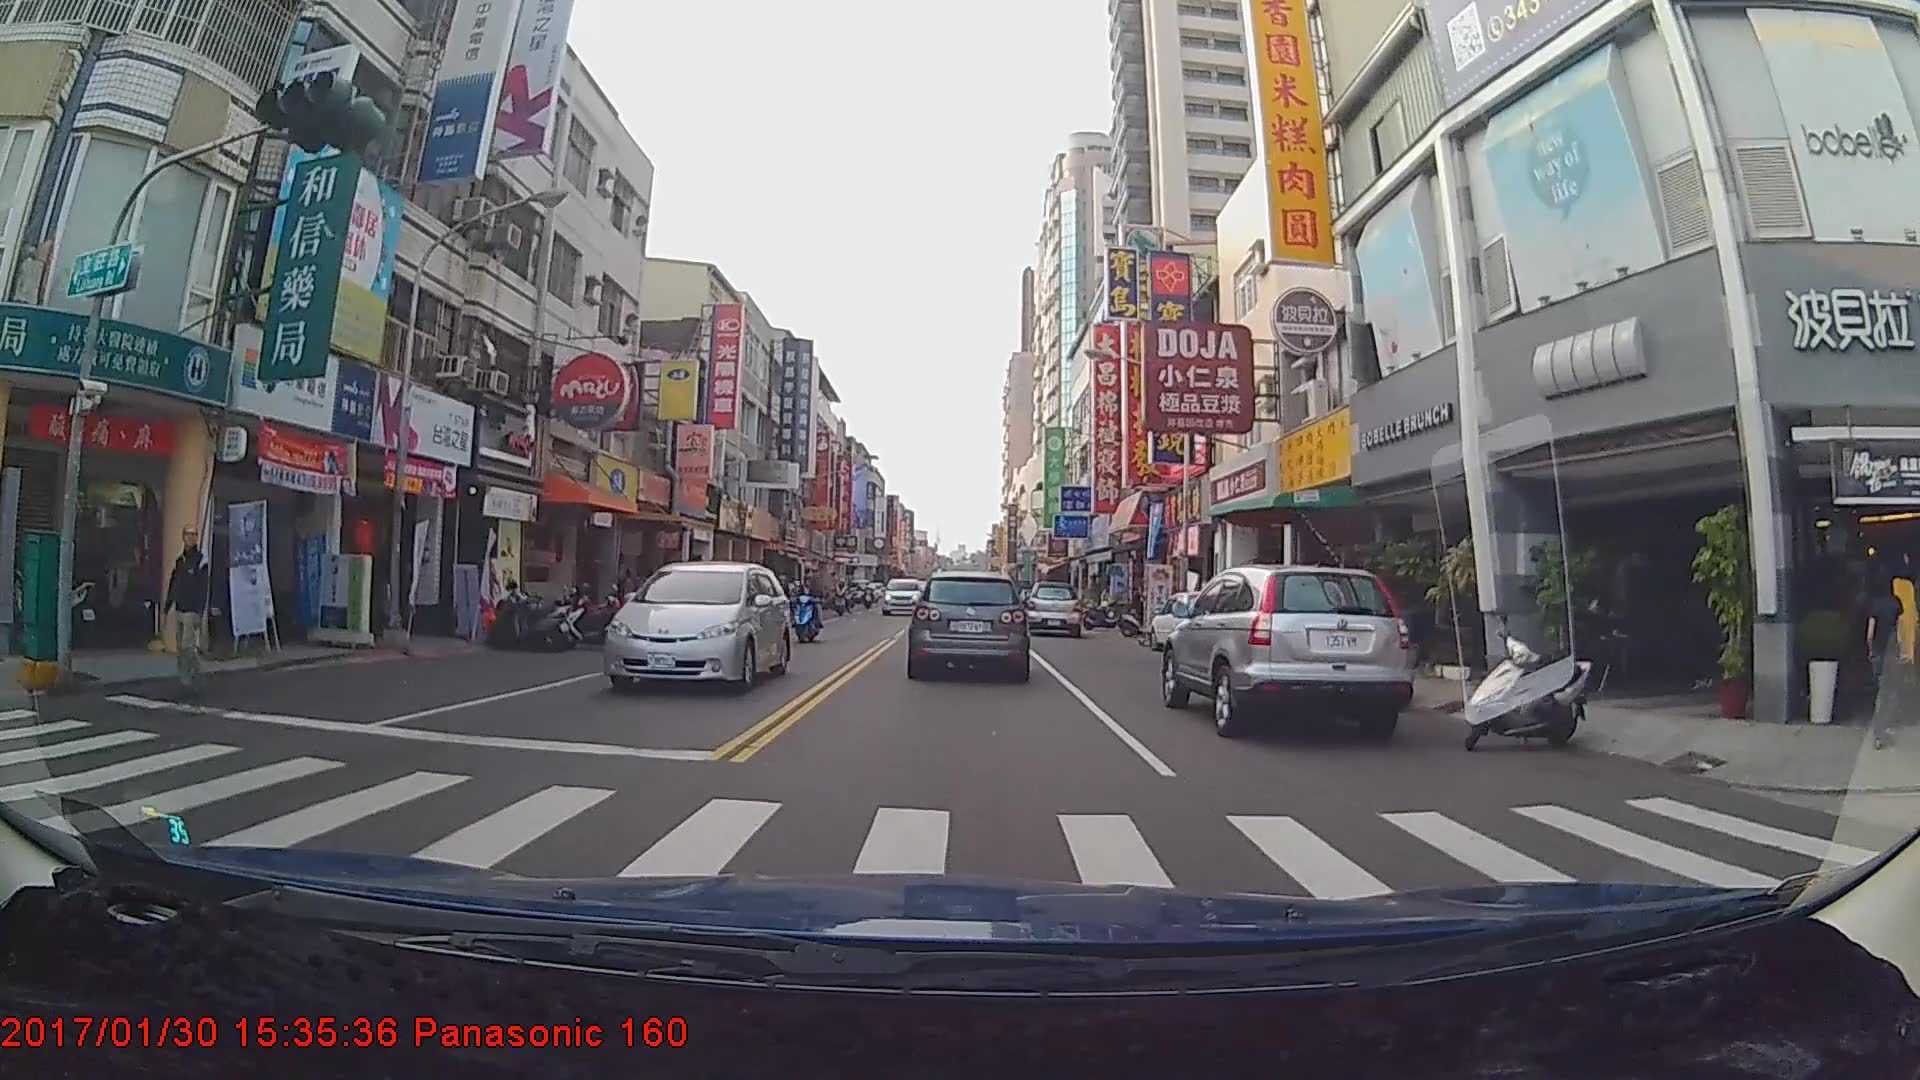pedestrian: (165, 529, 220, 706), (1862, 567, 1909, 758), (1881, 555, 1920, 723)
rider: (792, 572, 827, 643)
vehicle: (1159, 561, 1409, 736), (601, 558, 790, 694), (909, 568, 1027, 677), (1023, 580, 1081, 635), (879, 574, 924, 615)
